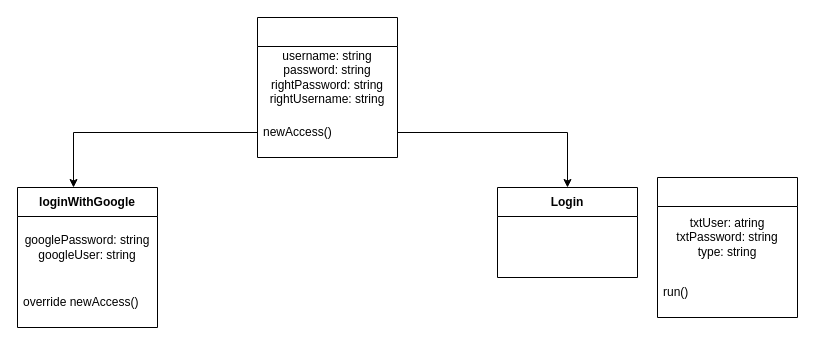
The diagram is 815 pixels wide and 345 high, and some of its shapes have lost their labels. The shapes that lost their labels are listed below. From the top down, each one's box as (x1, y1, x2, y2) in pixels, then its label:
(256, 16, 398, 158): getAccess
(656, 176, 798, 318): Main
